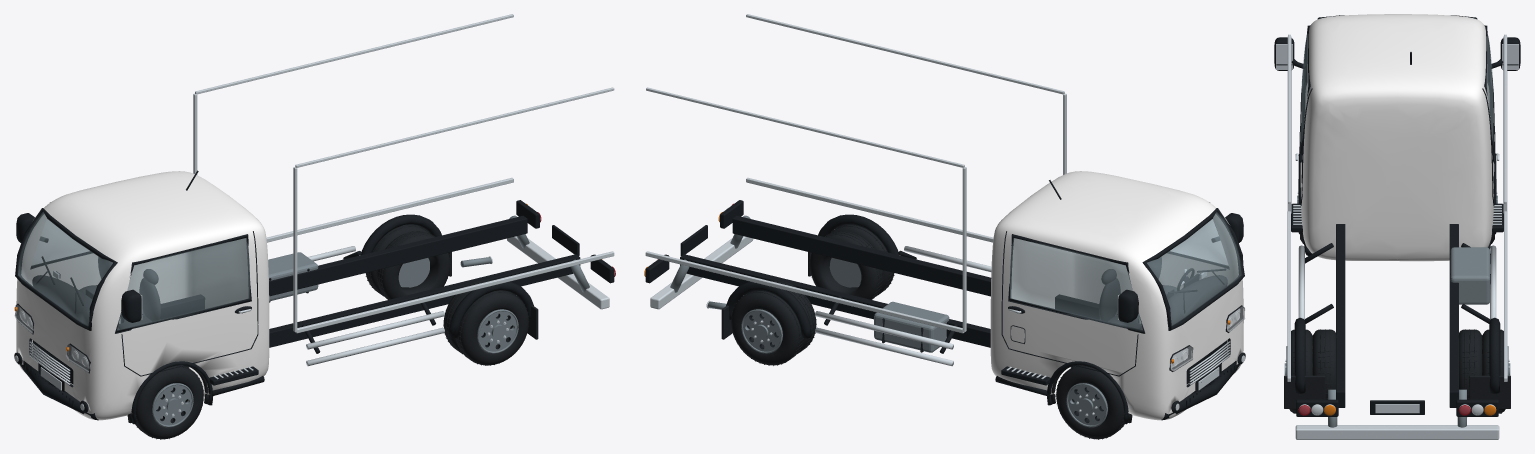
The model's file is chassis.glb.
3 views of the same model, side by side, from view 1: azimuth 30°, elevation 25°; view 2: azimuth 150°, elevation 25°; view 3: azimuth 270°, elevation 25° (orthographic). The views are drawn at different scales.
Parts seen in each view (by area): view 1: Forward-control truck hollow 12-station cab, Truck cab door window curved transparent pane -1, Truck raked laminated windscreen curved laminated transparen, Truck ladder chassis side rail.001, Truck ladder chassis side rail, Commercial tire formed sidewalls.002, Commercial tire formed sidewalls, Commercial tire formed sidewalls.005, Seated cargo lower aluminium edge, Truck raked laminated windscreen recessed rubber gasket, Seated cargo lower aluminium edge.001, Sculpted dashboard (+19 smaller); view 2: Forward-control truck hollow 12-station cab, Truck cab door window curved transparent pane 1, Truck ladder chassis side rail, Truck raked laminated windscreen curved laminated transparen, Truck ladder chassis side rail.001, Commercial tire formed sidewalls.004, Commercial tire formed sidewalls.001, Truck fuel reservoir, Commercial tire formed sidewalls.003, Seated cargo lower aluminium edge.001, Truck raked laminated windscreen recessed rubber gasket, Seated cargo lower aluminium edge (+19 smaller); view 3: Forward-control truck hollow 12-station cab, Rear under-ride protection bar, Truck fuel reservoir, Truck ladder chassis side rail, Truck ladder chassis side rail.001, Commercial tire formed sidewalls.003, Commercial tire formed sidewalls.005, Rear wheel rubber mud flap.001, Rear wheel rubber mud flap, Rear truck formed wheel fender, Rear truck formed wheel fender.001, Seated cargo lower aluminium edge (+23 smaller).
Part boxes in pixels (x1,y1,x2,y2): Forward-control truck hollow 12-station cab: (16,171,269,420); Truck cab door window curved transparent pane -1: (117,238,250,330); Truck raked laminated windscreen curved laminated transparen: (18,212,112,325); Truck ladder chassis side rail.001: (160,215,527,319); Truck ladder chassis side rail: (186,254,580,367); Commercial tire formed sidewalls.002: (456,290,528,365); Commercial tire formed sidewalls: (134,365,203,439); Commercial tire formed sidewalls.005: (376,231,449,299); Seated cargo lower aluminium edge: (295,251,614,333); Truck raked laminated windscreen recessed rubber gasket: (15,208,117,330); Seated cargo lower aluminium edge.001: (266,177,513,242); Sculpted dashboard: (32,275,92,325); Forward-control truck hollow 12-station cab: (990,171,1243,420); Truck cab door window curved transparent pane 1: (1009,238,1142,330); Truck ladder chassis side rail: (732,215,1099,319); Truck raked laminated windscreen curved laminated transparen: (1147,212,1241,325); Truck ladder chassis side rail.001: (680,254,1073,367); Commercial tire formed sidewalls.004: (731,291,804,365); Commercial tire formed sidewalls.001: (1056,365,1125,439); Truck fuel reservoir: (874,301,949,352); Commercial tire formed sidewalls.003: (810,231,883,299); Seated cargo lower aluminium edge.001: (645,251,964,333); Truck raked laminated windscreen recessed rubber gasket: (1142,208,1244,330); Seated cargo lower aluminium edge: (746,177,993,242); Forward-control truck hollow 12-station cab: (1300,14,1494,261); Rear under-ride protection bar: (1295,425,1499,439); Truck fuel reservoir: (1450,247,1490,304); Truck ladder chassis side rail: (1336,224,1345,407); Truck ladder chassis side rail.001: (1449,224,1458,407); Commercial tire formed sidewalls.003: (1312,329,1336,399); Commercial tire formed sidewalls.005: (1458,329,1482,399); Rear wheel rubber mud flap.001: (1469,375,1510,408); Rear wheel rubber mud flap: (1284,375,1325,408); Rear truck formed wheel fender: (1294,317,1305,393); Rear truck formed wheel fender.001: (1489,317,1500,393); Seated cargo lower aluminium edge: (1287,211,1290,381).
Size of the model in its own units: 7.31 by 3.3 by 2.73.
10 materials, 9 textured.
